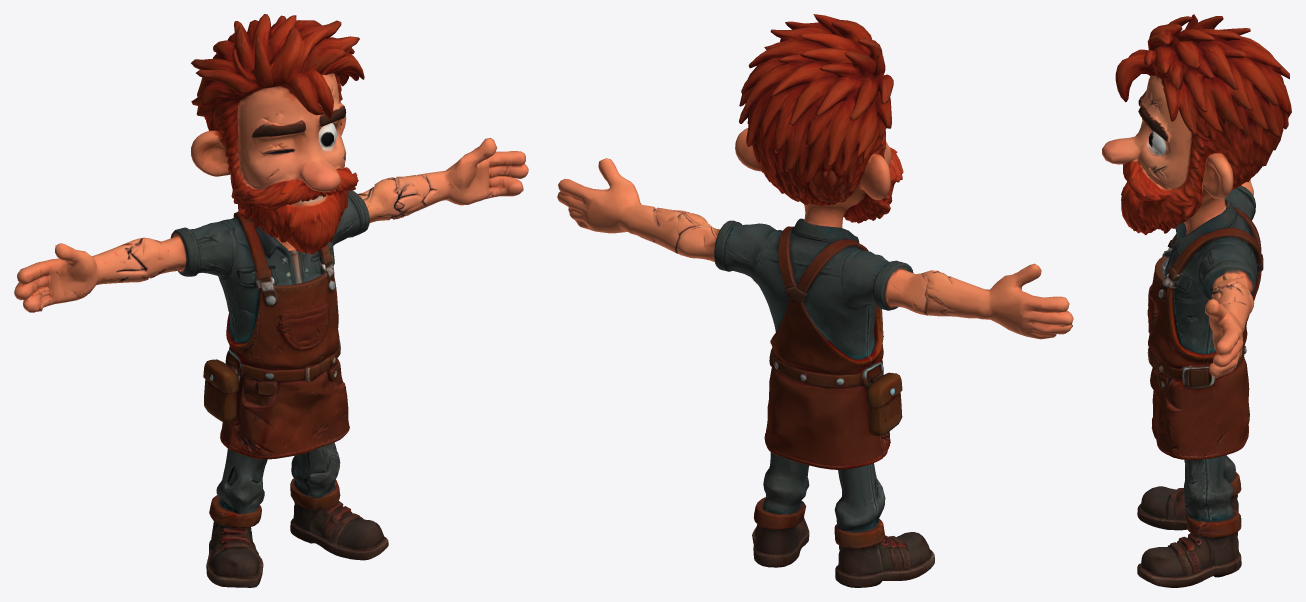
Rendered from rusty_kell.glb.
3 views of the same model, side by side, from view 1: azimuth 30°, elevation 25°; view 2: azimuth 150°, elevation 25°; view 3: azimuth 270°, elevation 25° (orthographic).
Visible parts, largest first — view 1: tripo_node_15843871-452a-430e-9bcc-bfaf5963c936; view 2: tripo_node_15843871-452a-430e-9bcc-bfaf5963c936; view 3: tripo_node_15843871-452a-430e-9bcc-bfaf5963c936.
Boxes of the visible parts, left/top/right/bottom form: tripo_node_15843871-452a-430e-9bcc-bfaf5963c936: left=14, top=14, right=528, bottom=587; tripo_node_15843871-452a-430e-9bcc-bfaf5963c936: left=557, top=14, right=1073, bottom=587; tripo_node_15843871-452a-430e-9bcc-bfaf5963c936: left=1102, top=14, right=1291, bottom=587.
Bounding box in the file's own units: 0.9796 × 0.9767 × 0.3197.
1 material, 1 textured.
